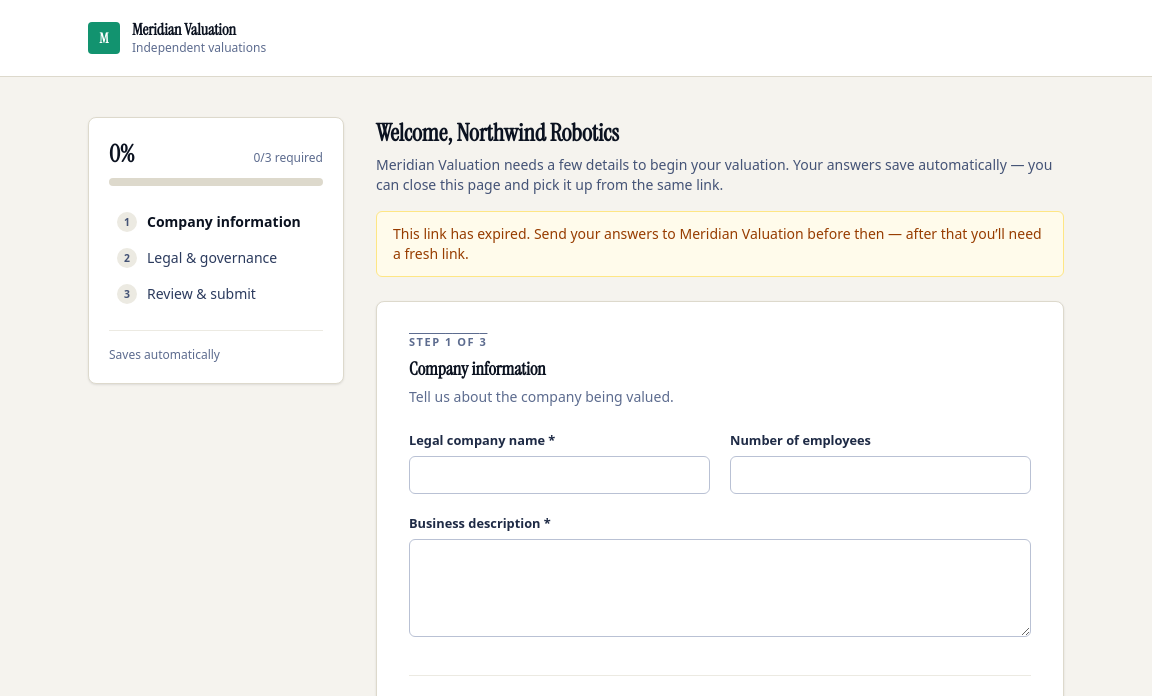
ClientIntakePage › writes answers back without a save button, sending only what changed
Expected: the heading "Welcome, Northwind Robotics" is shown, x1=376 y1=117 x2=619 y2=148
Type "Northwind Robotics, Inc." into the field labelled "Legal company name *". click: (560, 475)
box: x1=409 y1=456 x2=710 y2=494
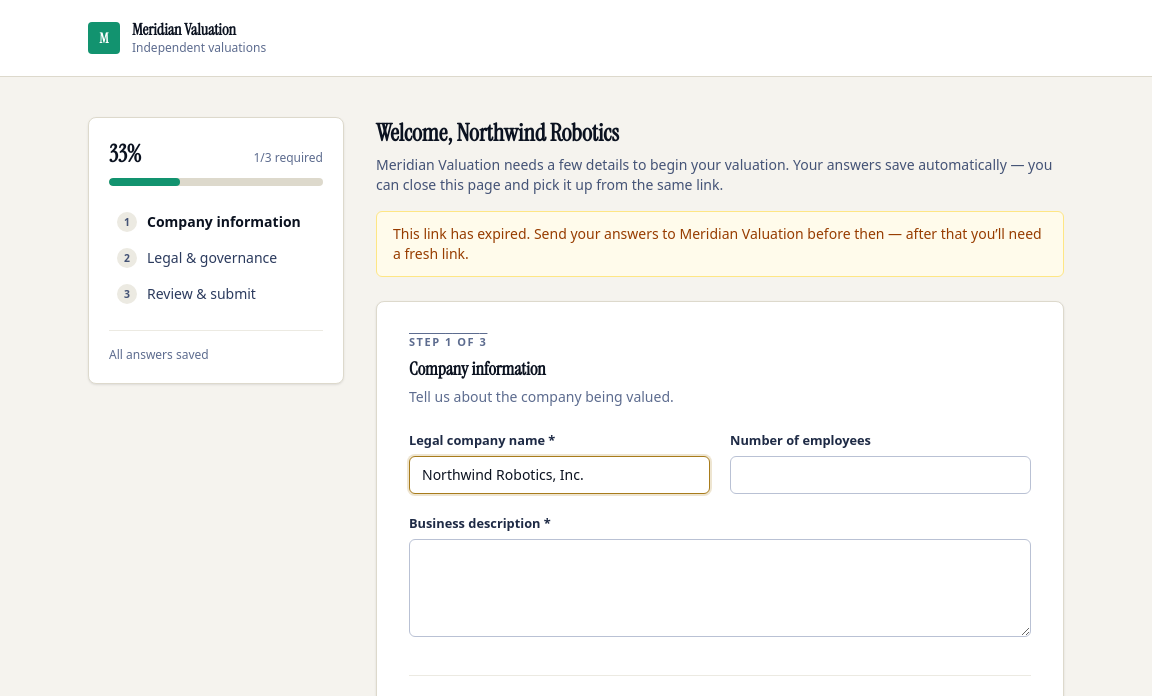
Result: the text "All answers saved" is shown at x1=109 y1=330 x2=323 y2=363
